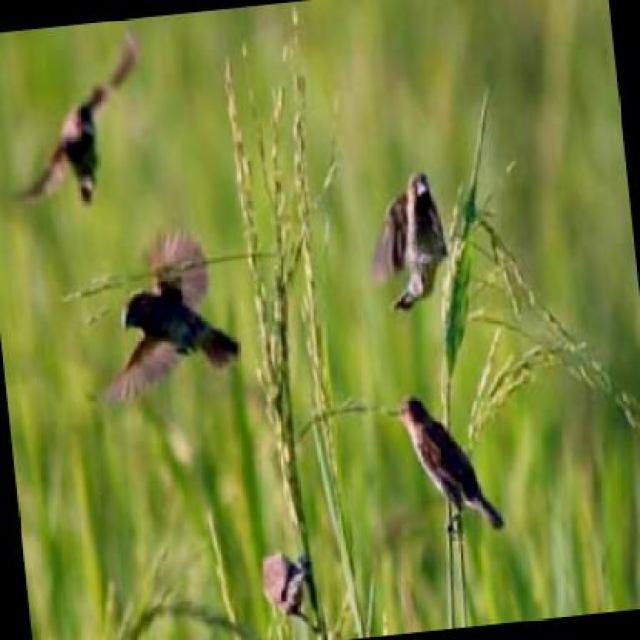Bird: (104, 228, 245, 403), (16, 36, 146, 212), (390, 395, 507, 535), (367, 168, 451, 318), (258, 548, 310, 620)
